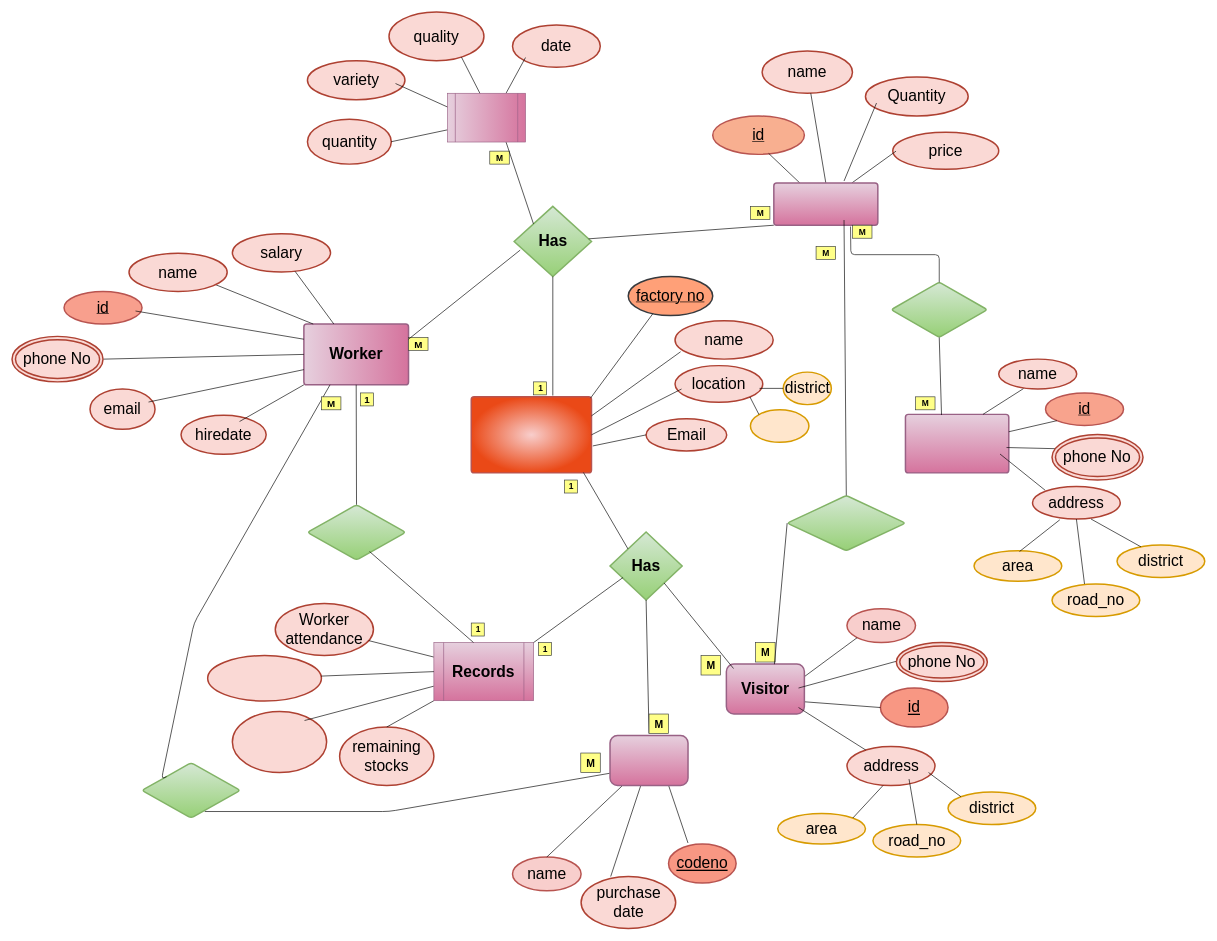
Some shapes in this 1217 by 941 pixel diagram are drawn without their labels. The shapes that lost their labels are listed below. From the top down, each one's box as (x1, y1, x2, y2) in pixels, then its label:
(447, 93, 526, 142): Stock
(773, 182, 878, 226): Food
(890, 281, 988, 338): Buy by
(470, 396, 592, 473): Food Factory
(749, 409, 809, 443): country
(904, 413, 1009, 473): Customer
(306, 504, 406, 560): Verify
(786, 494, 906, 551): observed by
(207, 654, 322, 701): Daily sell
(231, 710, 327, 773): Product Quantity
(609, 734, 688, 786): Machine
(141, 762, 241, 818): control
